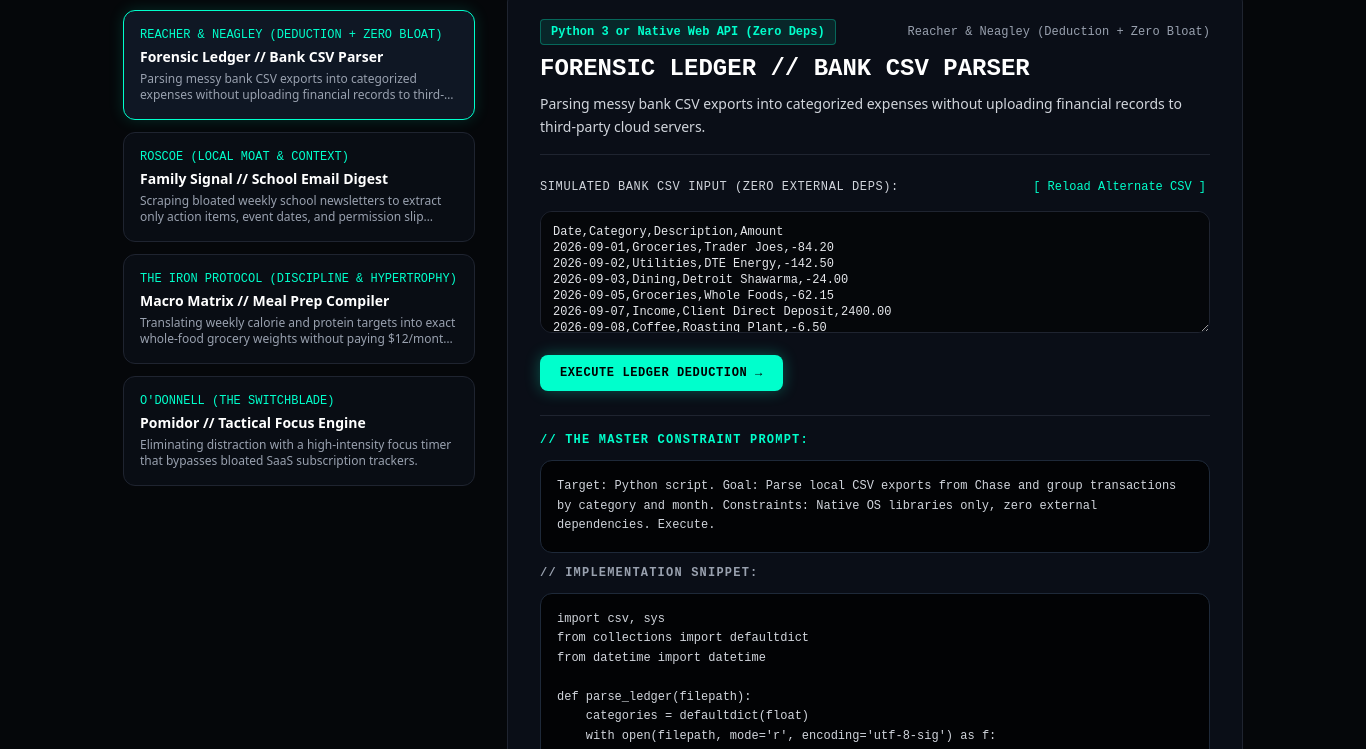
OperativesPage & Audience of One Operatives › should execute Bank CSV Parser deduction correctly
(page scrolled)
Click the button "Execute Ledger Deduction →".
click(661, 373)  # box [540,355,783,391]
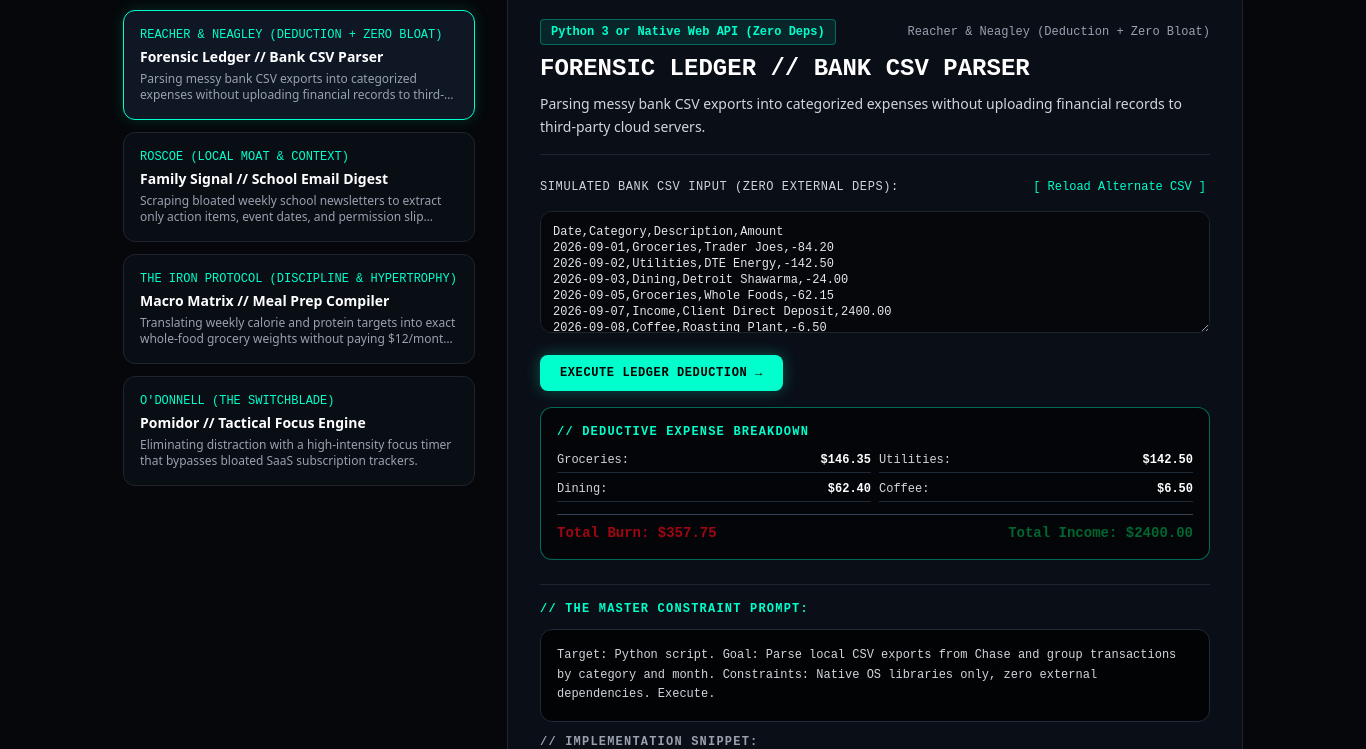
expect the text "// Deductive Expense Breakdown" is shown: met, box [557,425,809,439]
expect the text "Total Burn: $357.75" is shown: met, box [557,523,717,543]
